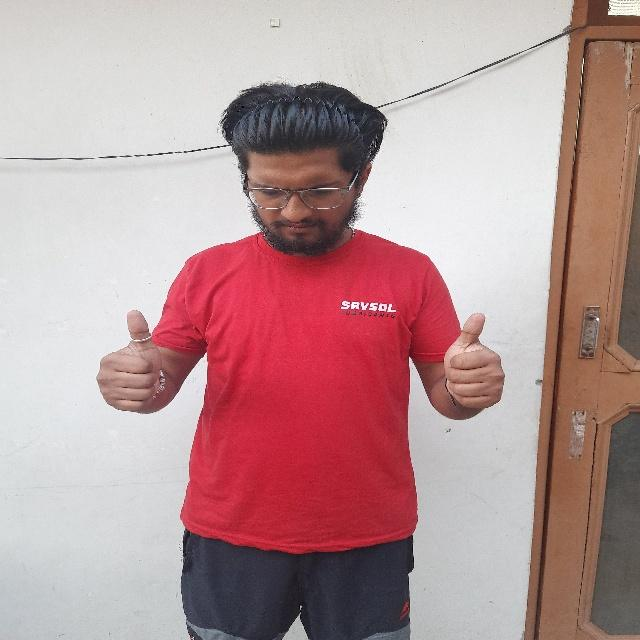Thumbs Up: (82, 304, 170, 422), (430, 302, 512, 422)
